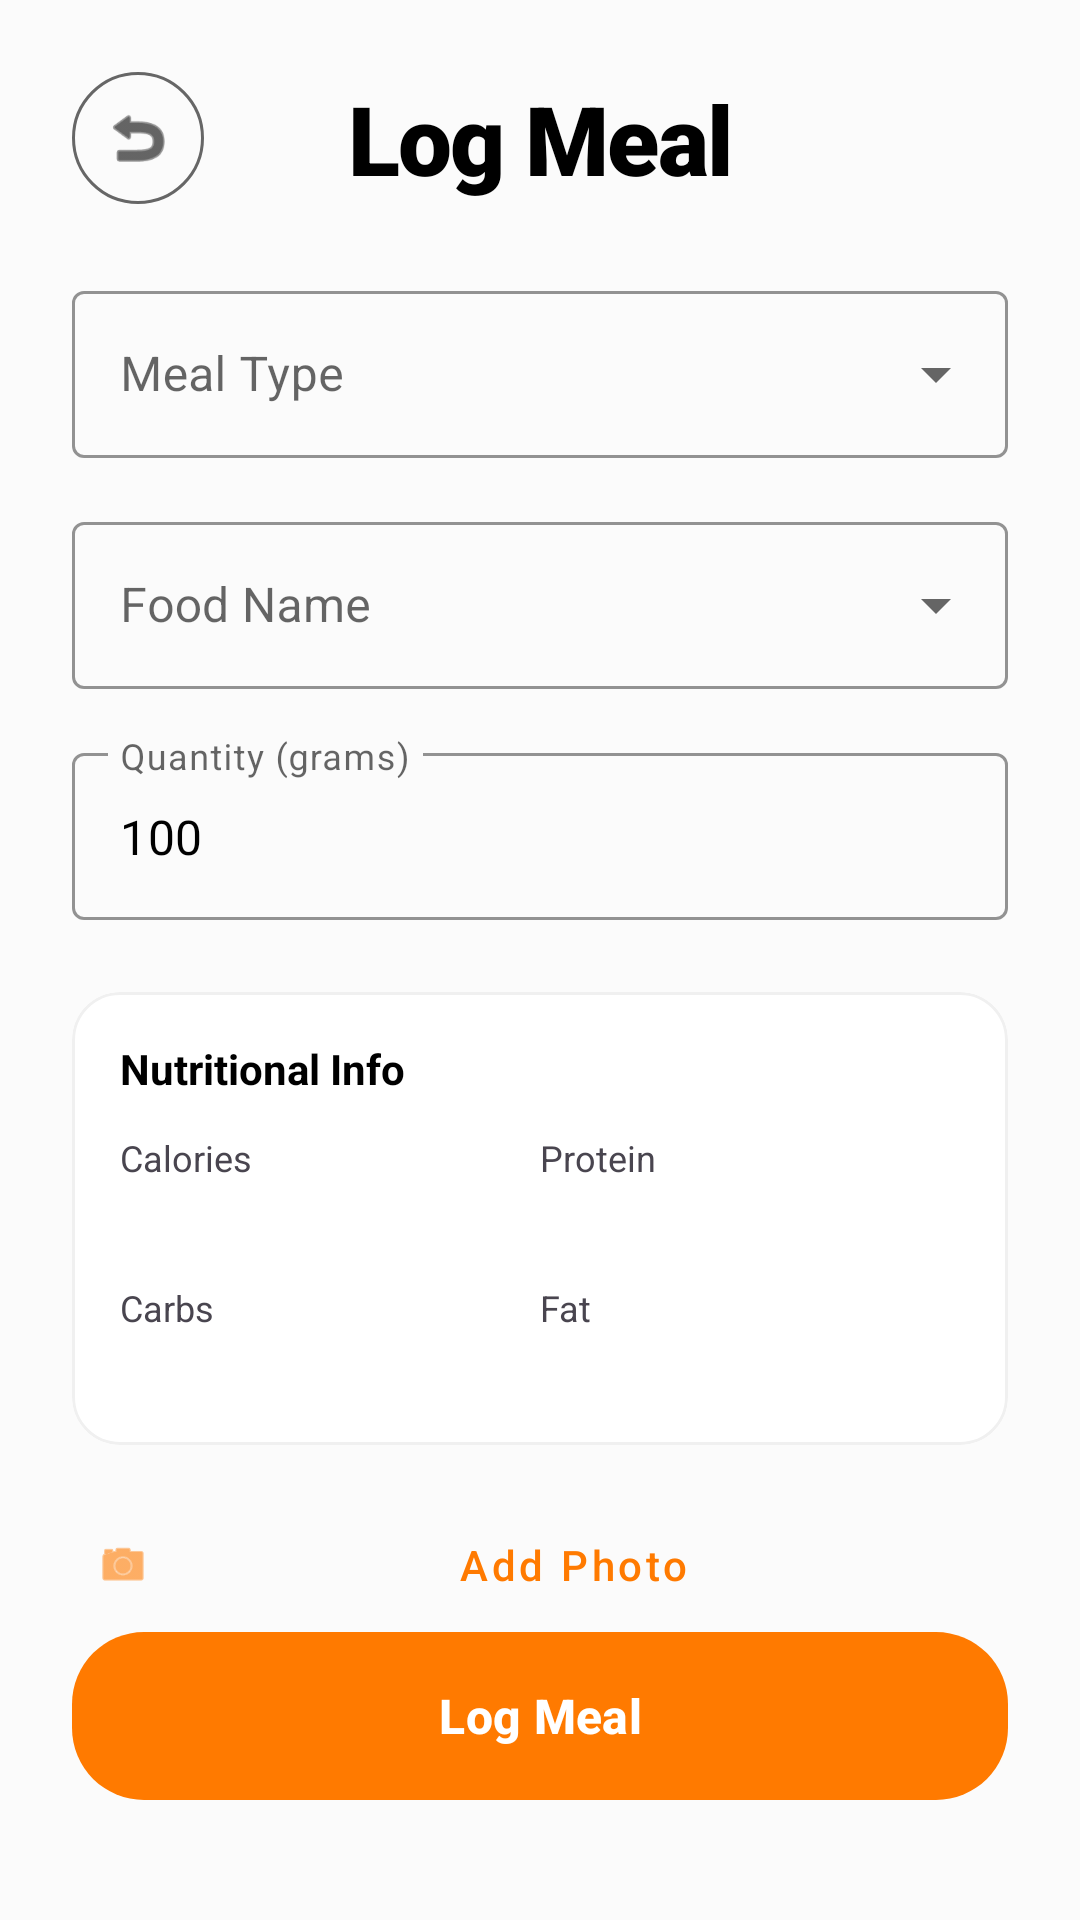

Point at icon controls on the screen. Image size 1080 × 1920, points as (x=x, y=y).
revert: (x=138, y=138)
